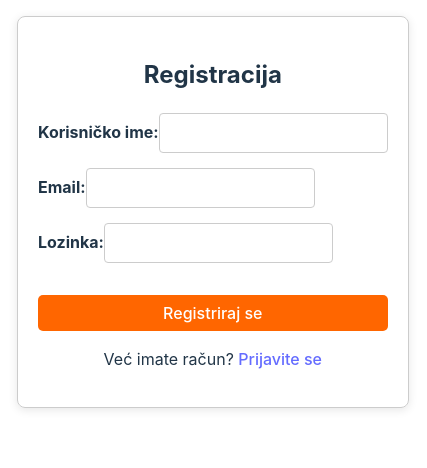
it: Registracija › integracijski testovi › salje formu
// ispuni formu
Type "testuser3" into the field labelled "Korisničko ime:" at (273, 133), box [159,113,388,153]
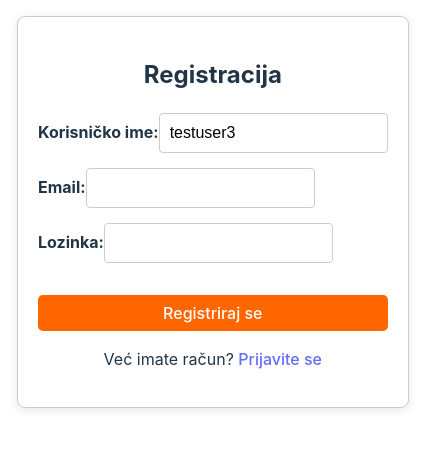
Type "testuser3@example.com" into the field labelled "Email:" at (200, 188), box [86,168,315,208]
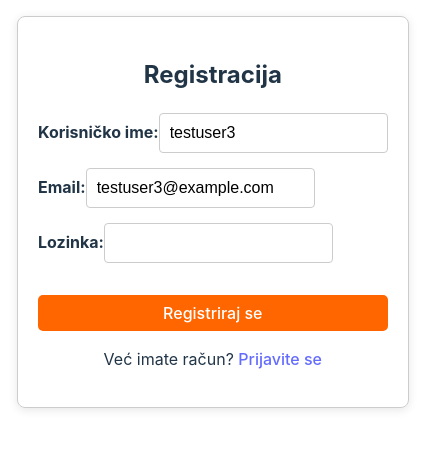
Type "password123" into the password field labelled "Lozinka:" at (218, 243), box [104,223,333,263]
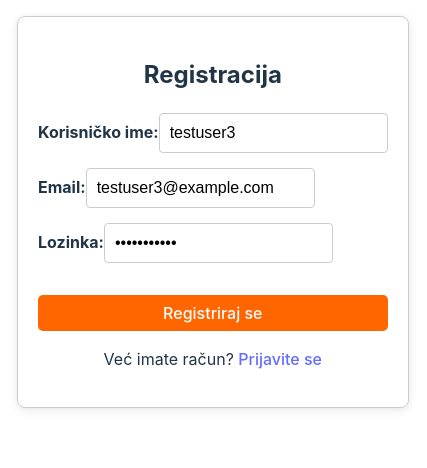
// posalji formu
Click the button "Registriraj se" at (213, 313), box [38,295,388,331]
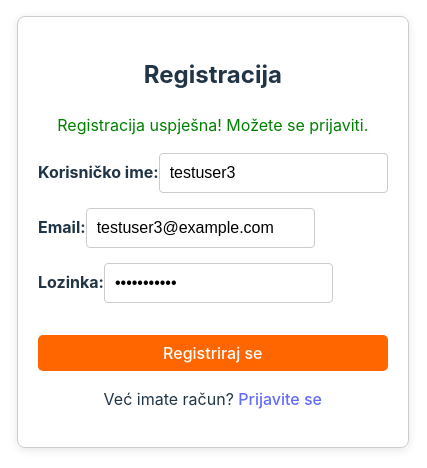
Expected: the text "Registracija uspješna! Možete se prijaviti." is shown, [38,113,388,137]
